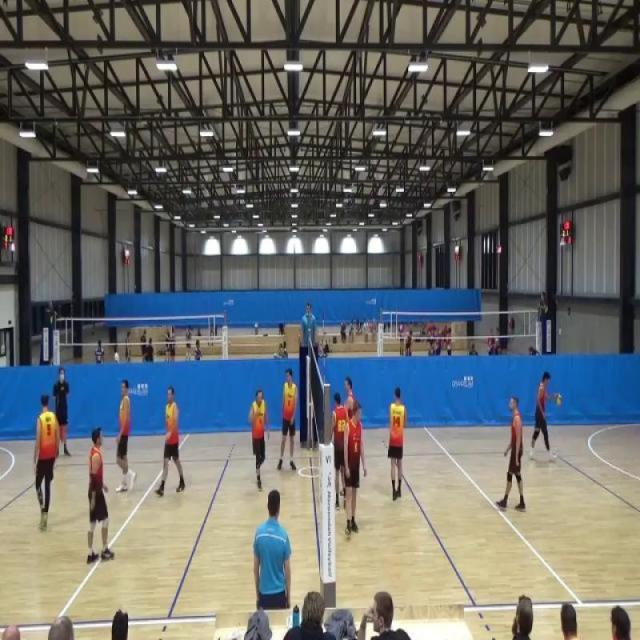volleyball: (556, 394, 562, 407)
